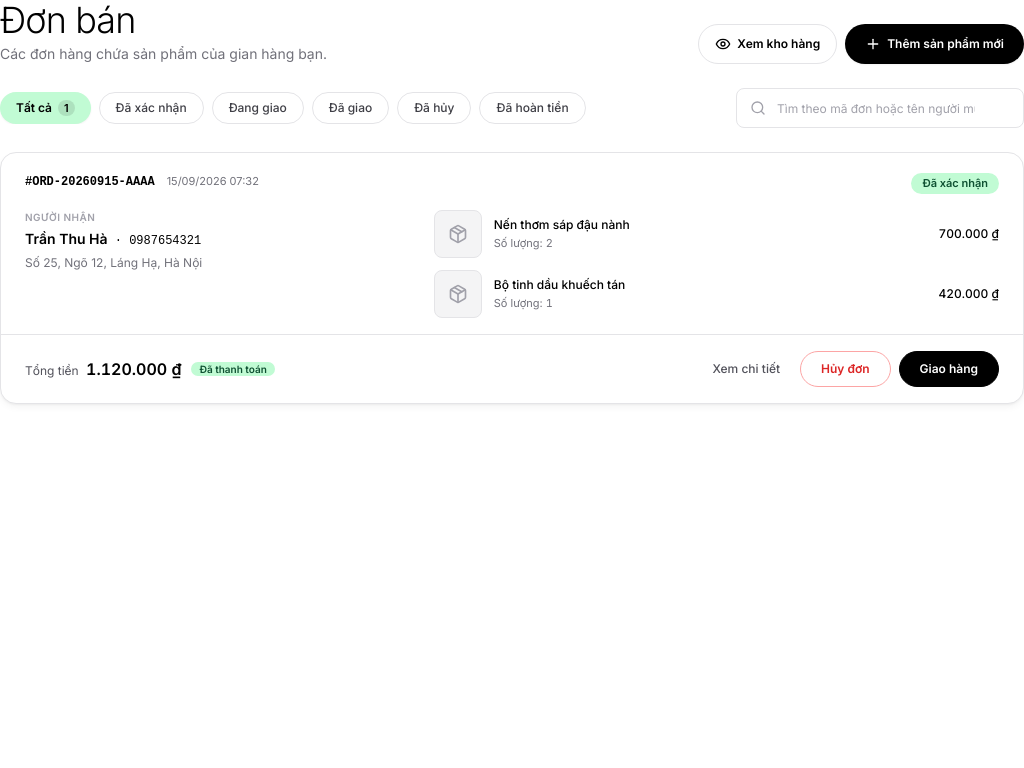
Test case: SellerOrdersPage › xử lý đơn ngay trong ngăn chi tiết: dialog mở chồng lên ngăn và gọi đúng API
Click the button with test id "action-view" at (746, 369), box [700,351,792,387]
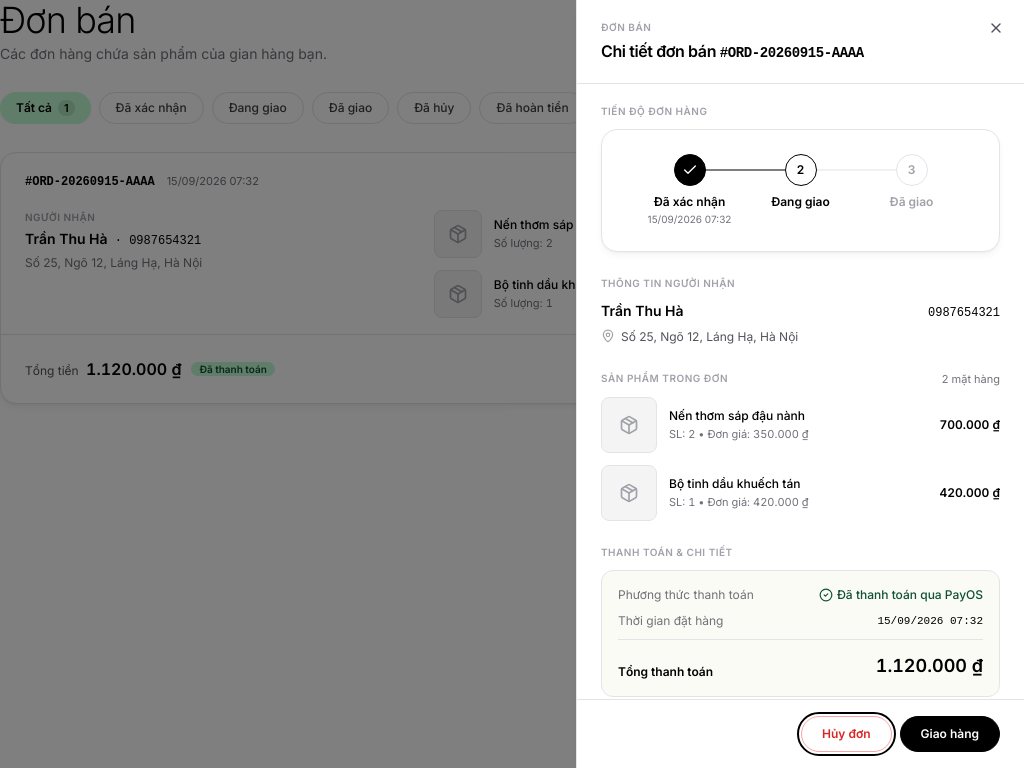
Click the button with test id "action-cancel" at (846, 734), box [801,716,892,752]
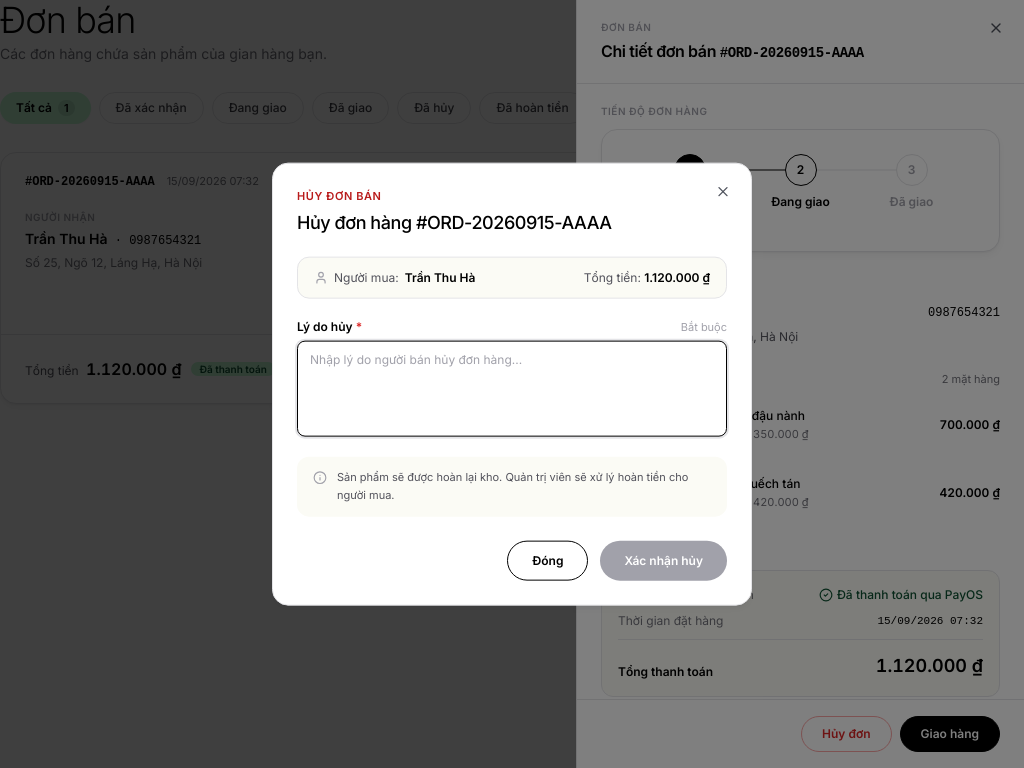
Type "Khách yêu cầu" into the text box labelled "Lý do hủy *" at (512, 389), box [297,341,727,437]
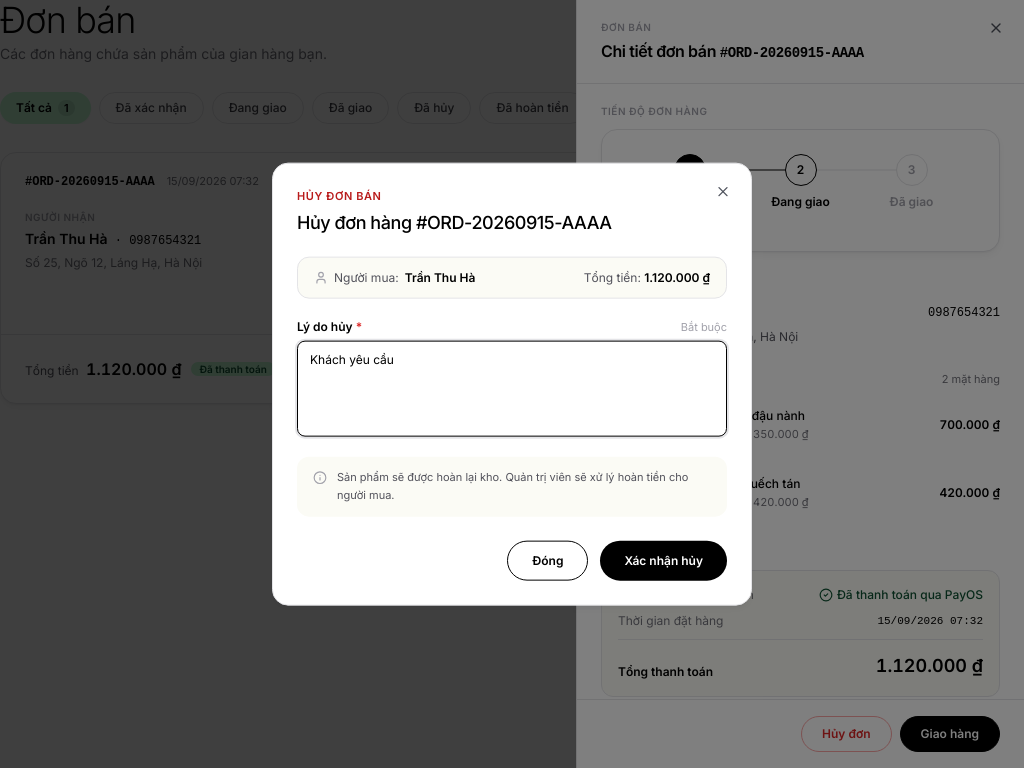
Click the button "Xác nhận hủy" at (664, 560), box [600,540,727,580]
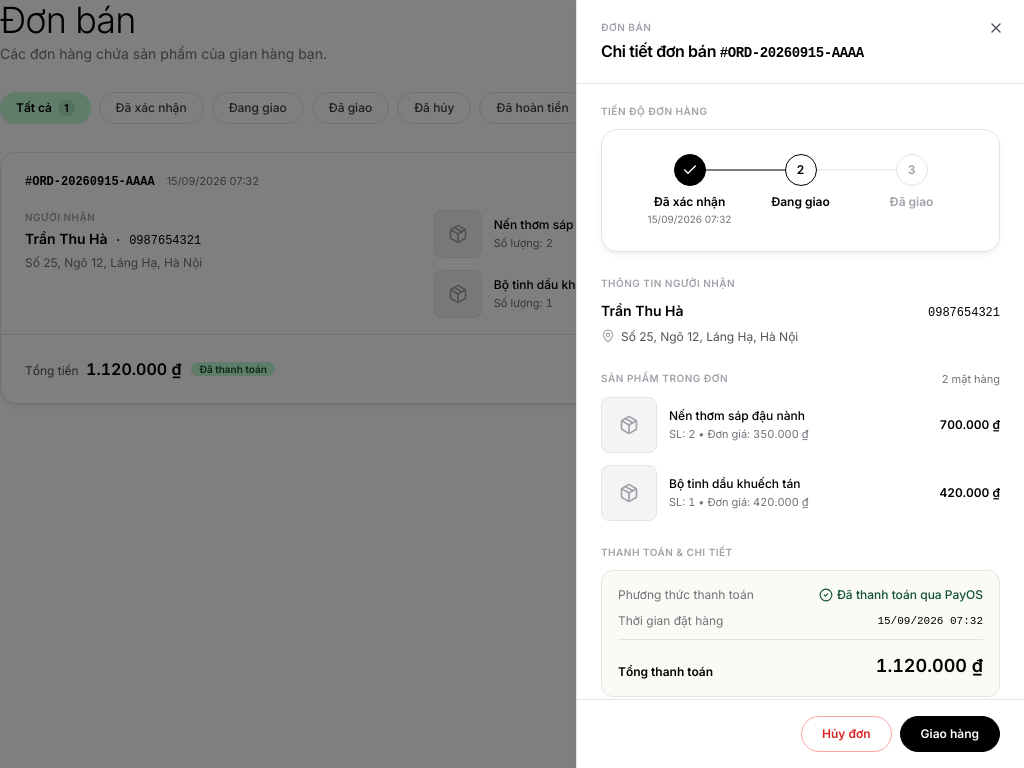
Result: the dialog with test id "cancel-reason-dialog" is gone
